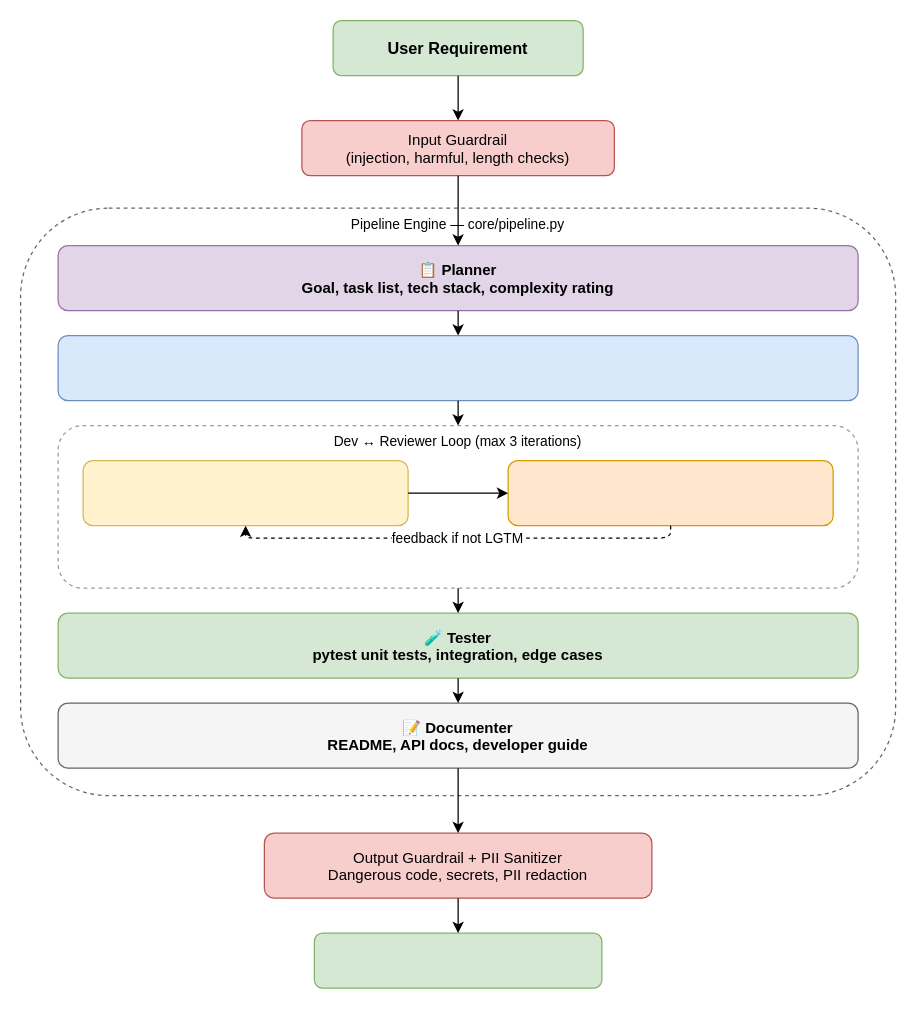
This 916x1009 diagram has some shape labels left out. Here are the shapes that lost their labels. From the top down, the centre of each, then its label:
point (457, 367): 🏗 Architect Folder tree, design patterns, data flow
point (245, 492): 💻 Developer Production-ready code
point (670, 492): 🔍 Reviewer Bugs, security, LGTM check
point (457, 960): Run Saved to History data/history.json
